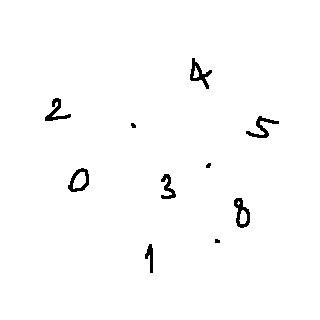.: (204, 157, 219, 175), (129, 116, 141, 137), (213, 233, 225, 246)
0: (60, 162, 94, 203)
1: (138, 239, 162, 282)
2: (34, 94, 80, 129)
3: (155, 166, 180, 209)
4: (179, 55, 216, 94)
5: (241, 110, 285, 145)
8: (228, 195, 260, 235)
